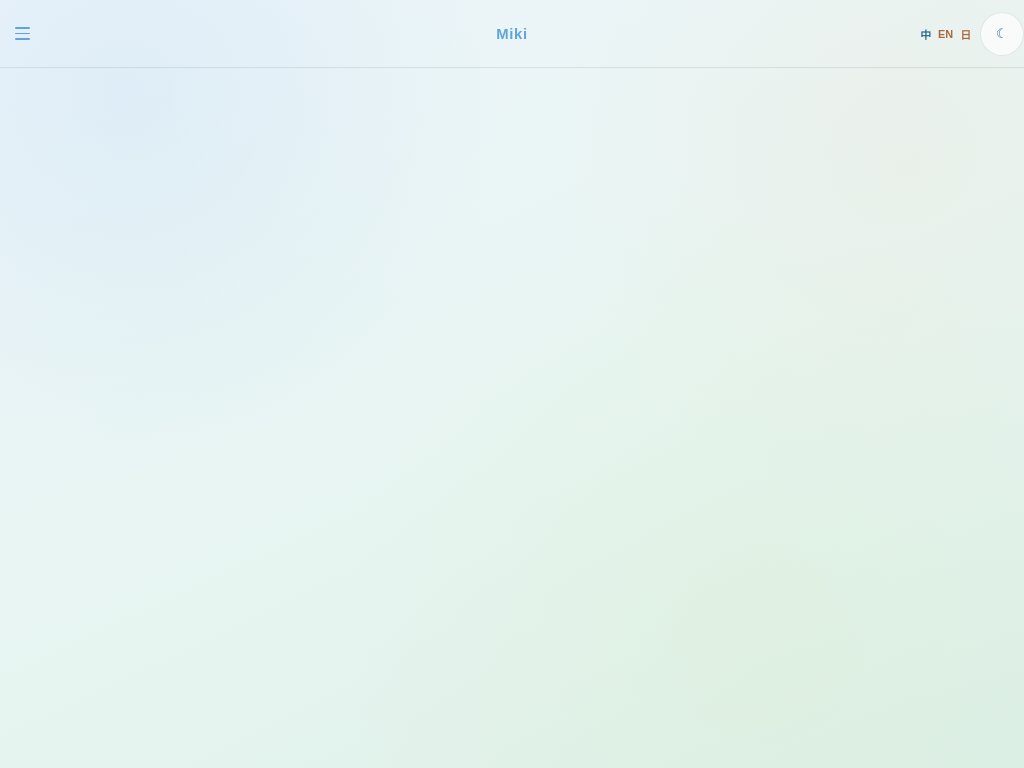
Test: SiteHeader › centers the Miki wordmark and reveals navigation from a hamburger button
The image size is (1024, 768).
Expected: the link "Miki" is shown, [496,26,528,42]
Expected: the link "關於" is not shown
Click the button named "開啟選單": x=22, y=34 [0,12,44,56]
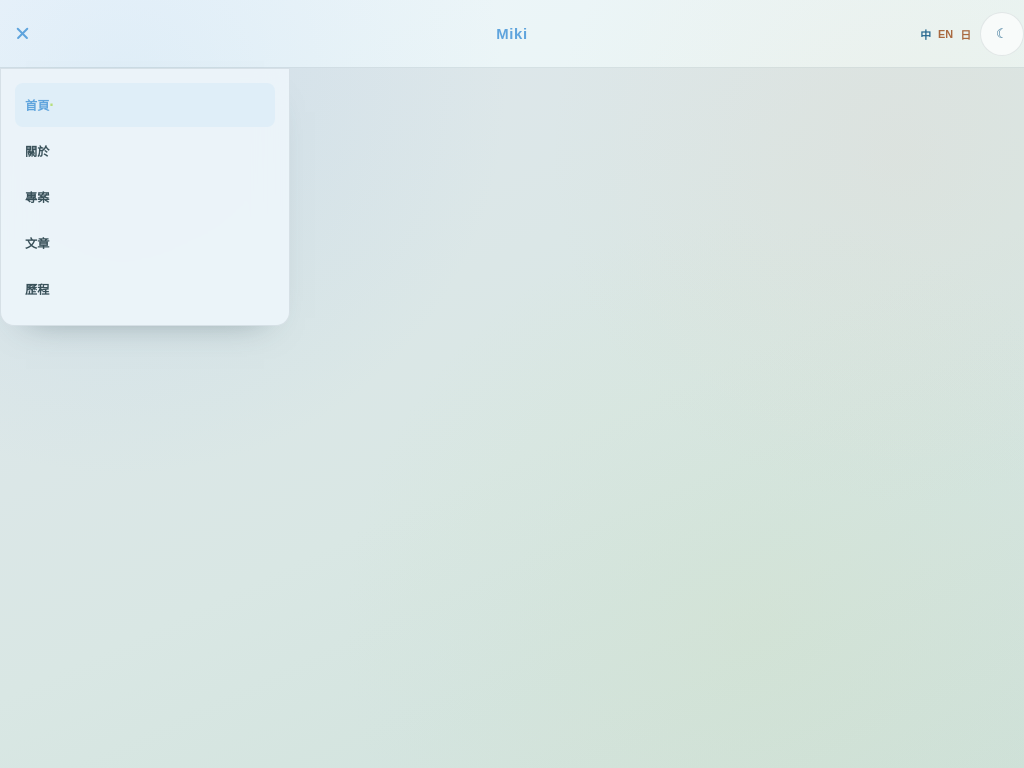
Expected: the button named "開啟選單" is expanded, [0,12,44,56]
Expected: the navigation bar with class "site-menu" is shown, [0,68,290,326]
